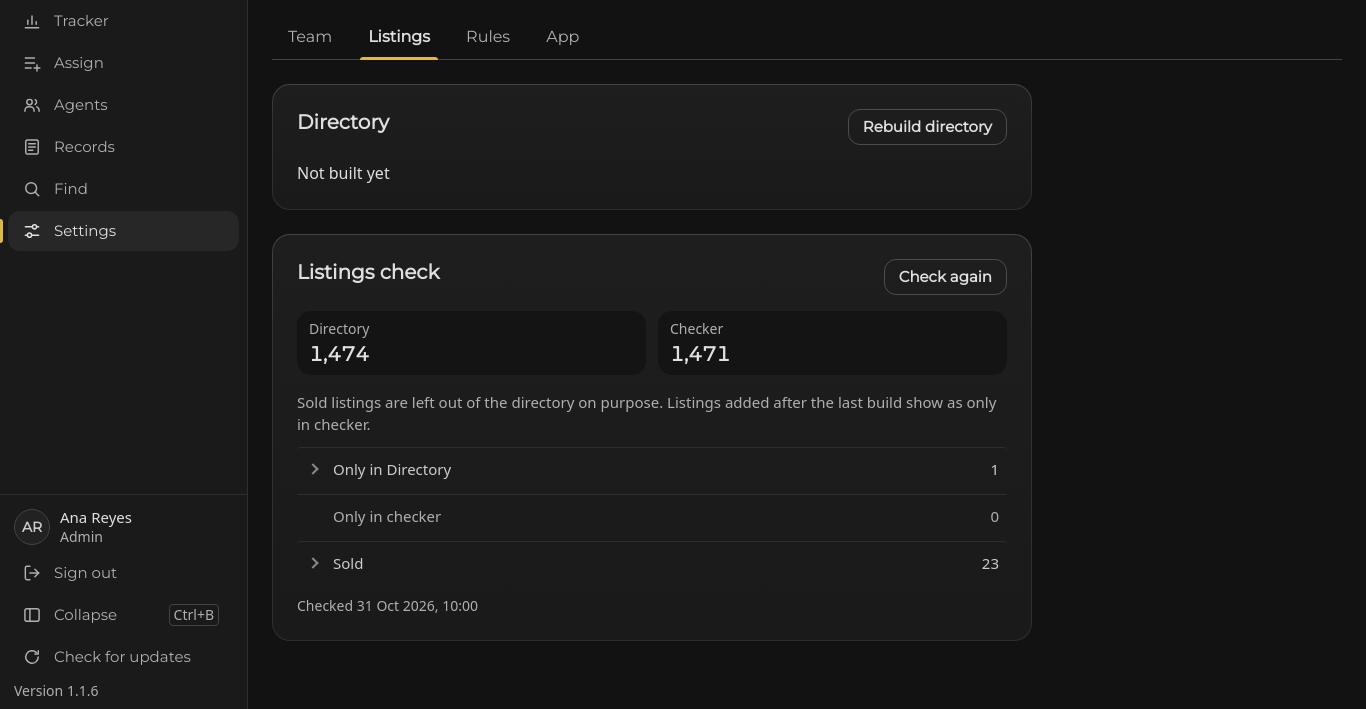
Settings → Listings › pages a long list ten at a time, inside its fold
Click the text "Sold" at (348,563), box [333, 552, 363, 574]
(page scrolled)
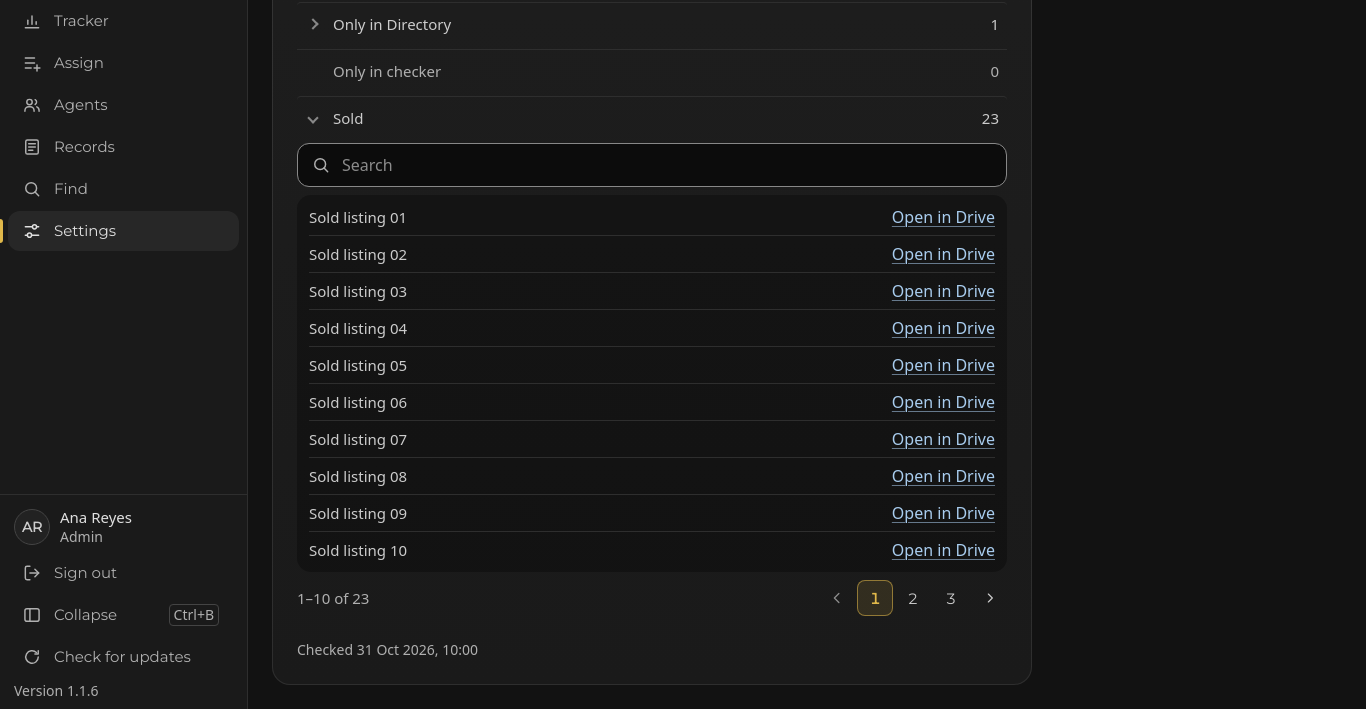
Click the button named "Page 3" at (951,598), box [933, 580, 969, 616]
(page scrolled)
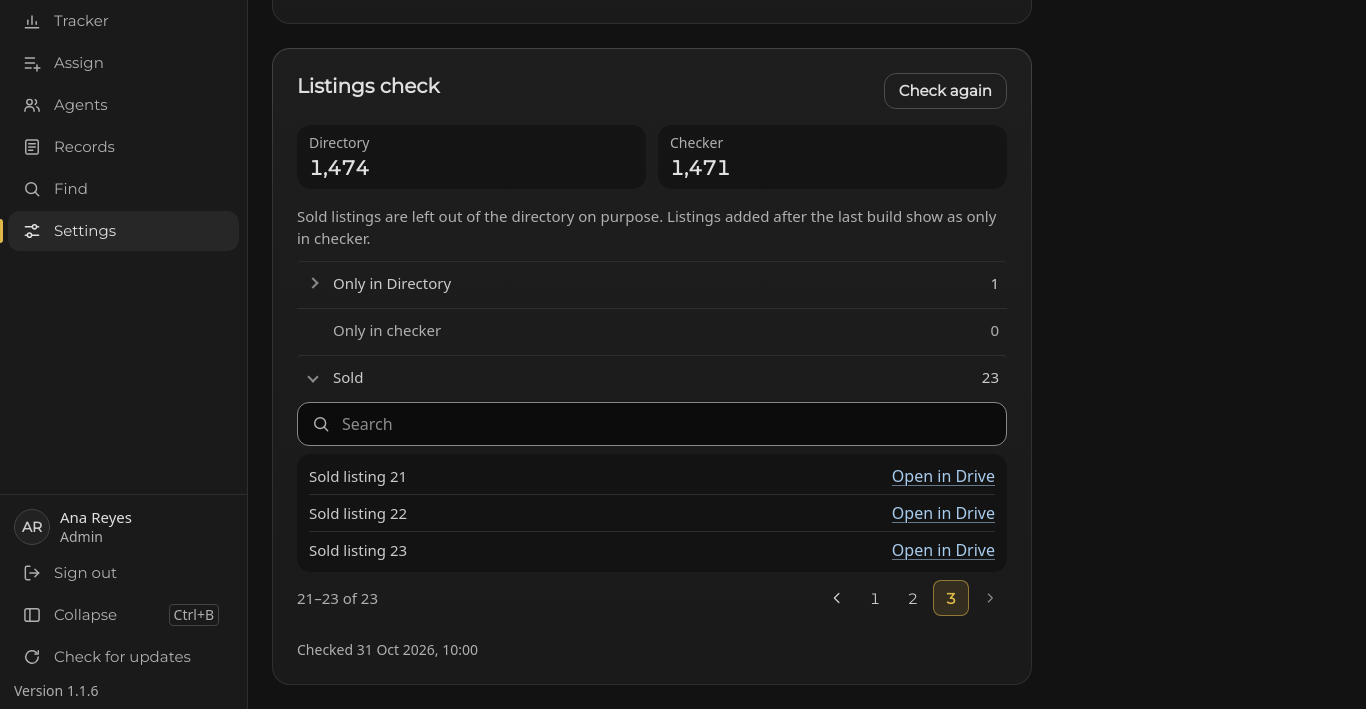
Type "listing 1" into the search field named "Search sold" at (652,424), box [297, 402, 1007, 446]
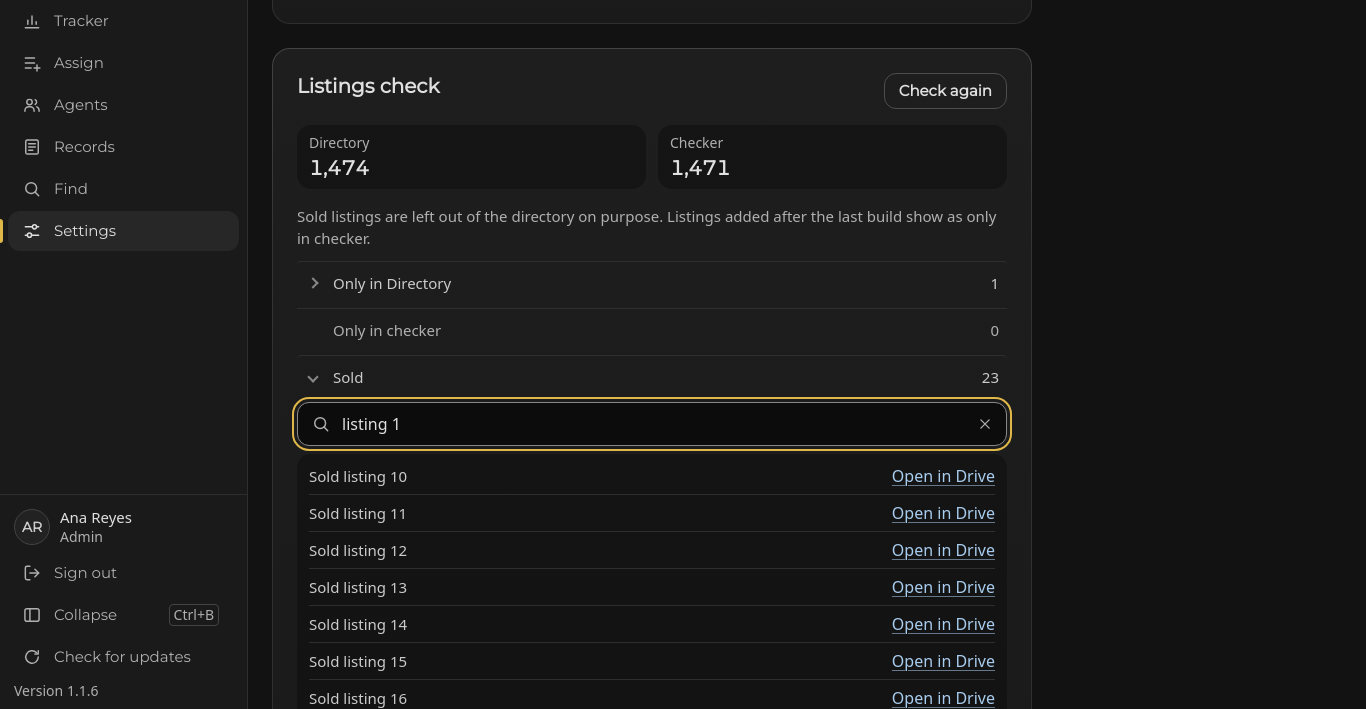
Check: the navigation bar "1 2 3" is gone
